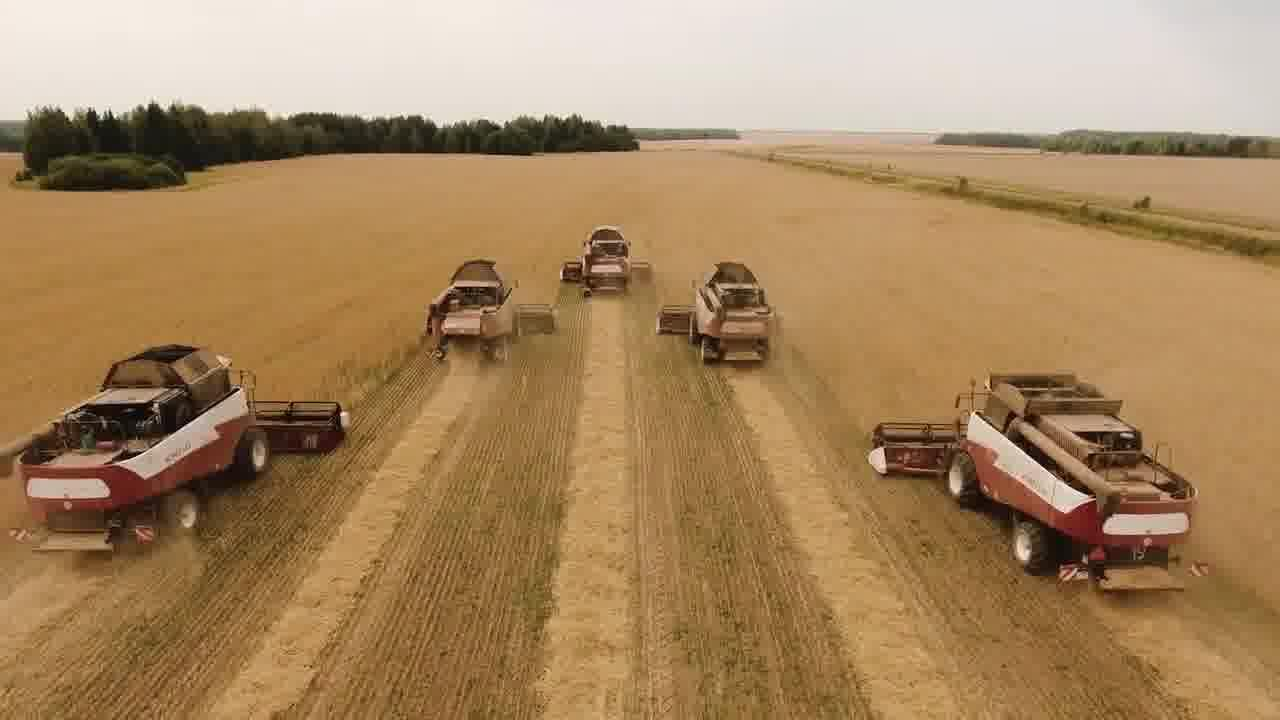combine harvester: (864, 361, 1214, 594), (0, 338, 356, 564), (418, 256, 560, 365), (657, 259, 790, 364), (561, 225, 655, 303)
